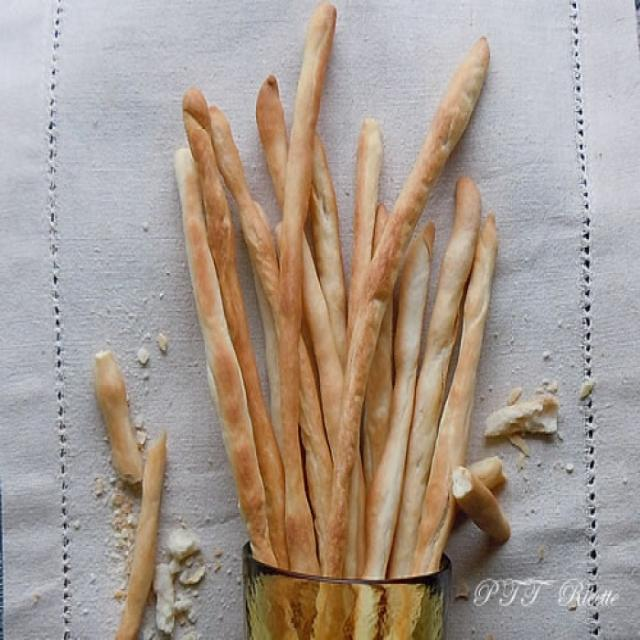Grissini: (167, 5, 489, 566)
